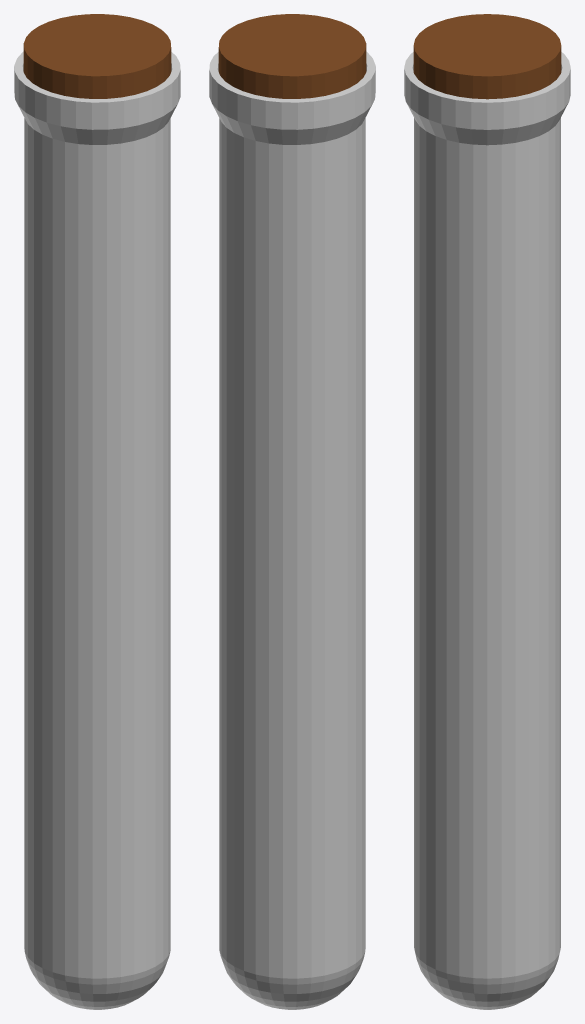
File: Green_potion.fbx
3 renders of one model, left to right at view 1: azimuth 30°, elevation 25°; view 2: azimuth 150°, elevation 25°; view 3: azimuth 270°, elevation 25°, orthographic.
Visible parts, largest first — view 1: Sphere, Sphere.001; view 2: Sphere, Sphere.001; view 3: Sphere, Sphere.001.
Boxes of the visible parts, bbox=[...] form: Sphere: bbox=[14, 51, 180, 1009]; Sphere.001: bbox=[23, 14, 171, 98]; Sphere: bbox=[209, 51, 375, 1009]; Sphere.001: bbox=[218, 14, 366, 98]; Sphere: bbox=[404, 52, 570, 1009]; Sphere.001: bbox=[413, 14, 561, 99].
Size of the model in its own units: 43.94 by 279 by 43.94.
